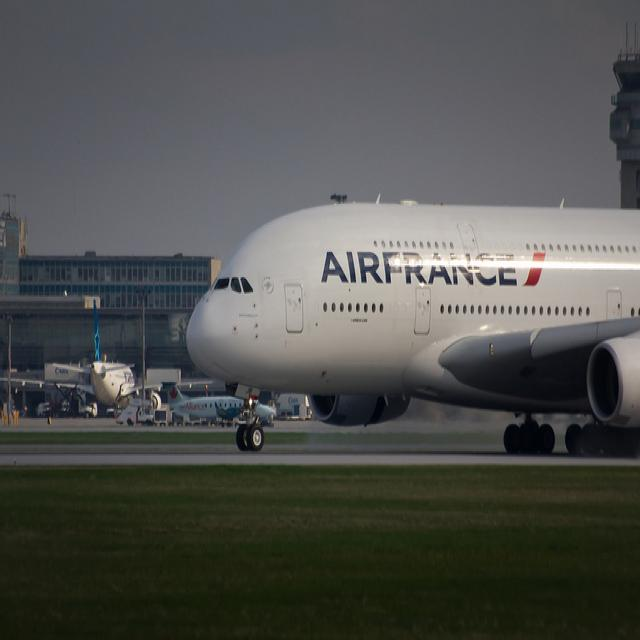airplane: (187, 190, 640, 458), (4, 300, 184, 415)
